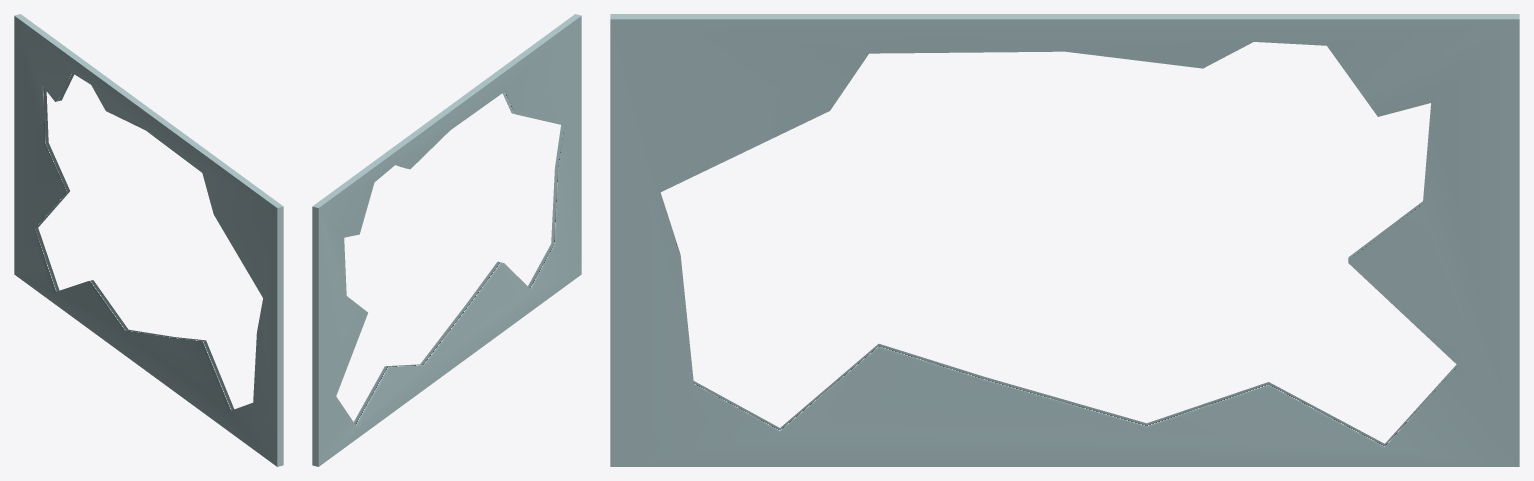
Rendered from BrokenWindow.fbx.
The picture shows the model from 3 angles, left to right: view 1: azimuth 30°, elevation 25°; view 2: azimuth 150°, elevation 25°; view 3: azimuth 270°, elevation 25°; orthographic projection. The views are drawn at different scales.
Visible parts, largest first — view 1: Window; view 2: Window; view 3: Window.
Boxes of the visible parts, box(x1,y1,x2,y2) form: Window: box(14, 14, 283, 466); Window: box(312, 14, 581, 466); Window: box(610, 14, 1519, 466).
Bounding box in the file's own units: 5 × 190 × 350.
